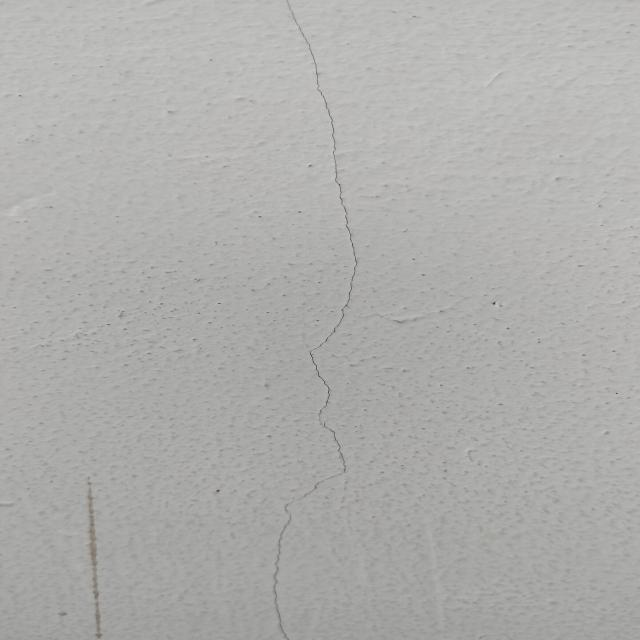Crack: (263, 1, 378, 640)
